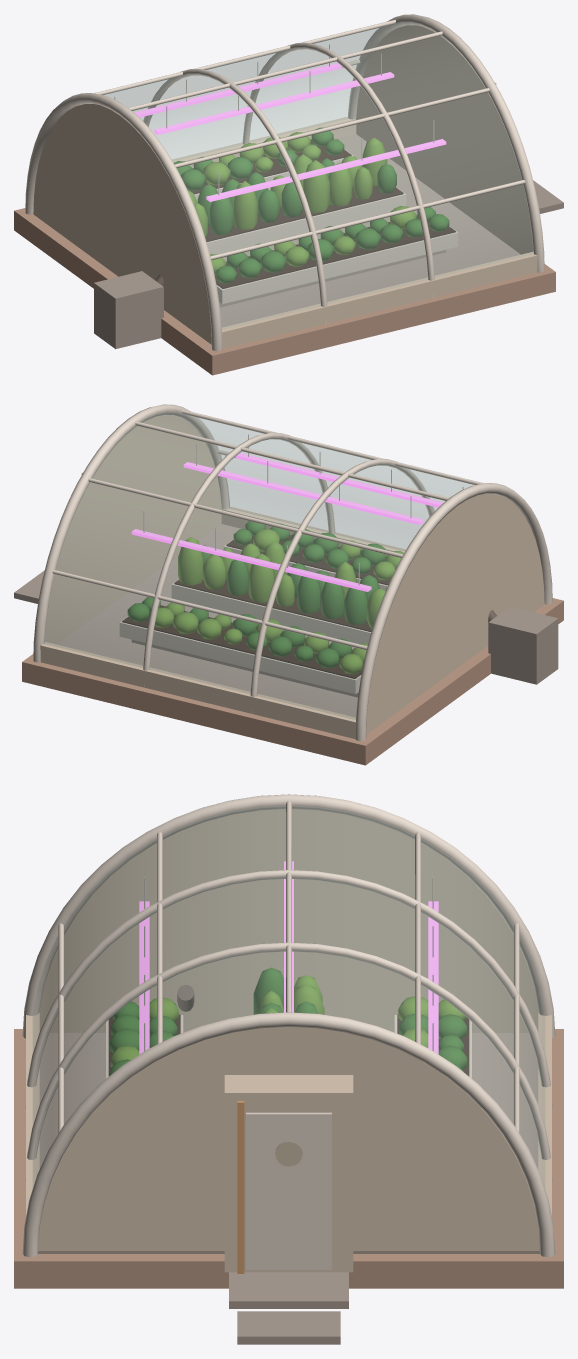
Rendered from A01_arched_greenhouse_6m.glb.
3 views of the same model, one above another, from view 1: azimuth 30°, elevation 25°; view 2: azimuth 150°, elevation 25°; view 3: azimuth 270°, elevation 25° (orthographic). The views are drawn at different scales.
Parts seen in each view (by area): view 1: glazing, rib, end_wall, floor, foundation, grow_light; view 2: glazing, rib, end_wall, floor, foundation, grow_light; view 3: end_wall, glazing, rib, foundation, floor, grow_light.
Boxes of the visible parts, x1=… form: glazing: x1=103, y1=22, x2=533, y2=329; rib: x1=25, y1=14, x2=544, y2=351; end_wall: x1=34, y1=25, x2=533, y2=344; floor: x1=94, y1=134, x2=563, y2=349; foundation: x1=14, y1=208, x2=555, y2=375; grow_light: x1=134, y1=63, x2=446, y2=201; glazing: x1=44, y1=412, x2=474, y2=719; rib: x1=33, y1=404, x2=552, y2=741; end_wall: x1=44, y1=415, x2=543, y2=734; floor: x1=14, y1=524, x2=558, y2=717; foundation: x1=22, y1=598, x2=563, y2=765; grow_light: x1=131, y1=453, x2=443, y2=591; end_wall: x1=39, y1=809, x2=538, y2=1250; glazing: x1=33, y1=806, x2=544, y2=1186; rib: x1=22, y1=794, x2=555, y2=1273; foundation: x1=14, y1=1029, x2=563, y2=1288; floor: x1=38, y1=1033, x2=539, y2=1344; grow_light: x1=139, y1=861, x2=438, y2=1054.
Size of the model in its own units: 8.9 by 3.45 by 6.4.
